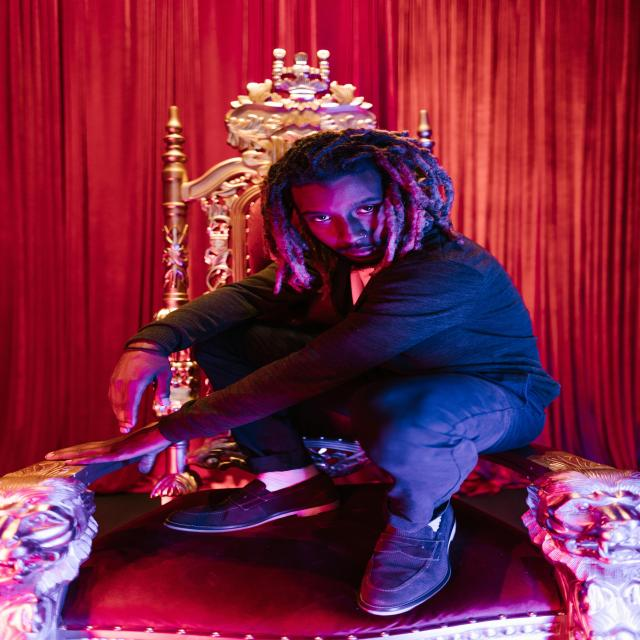sit: (102, 130, 553, 548)
